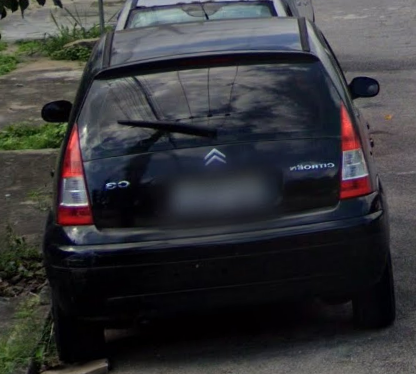car: (41, 16, 396, 363)
